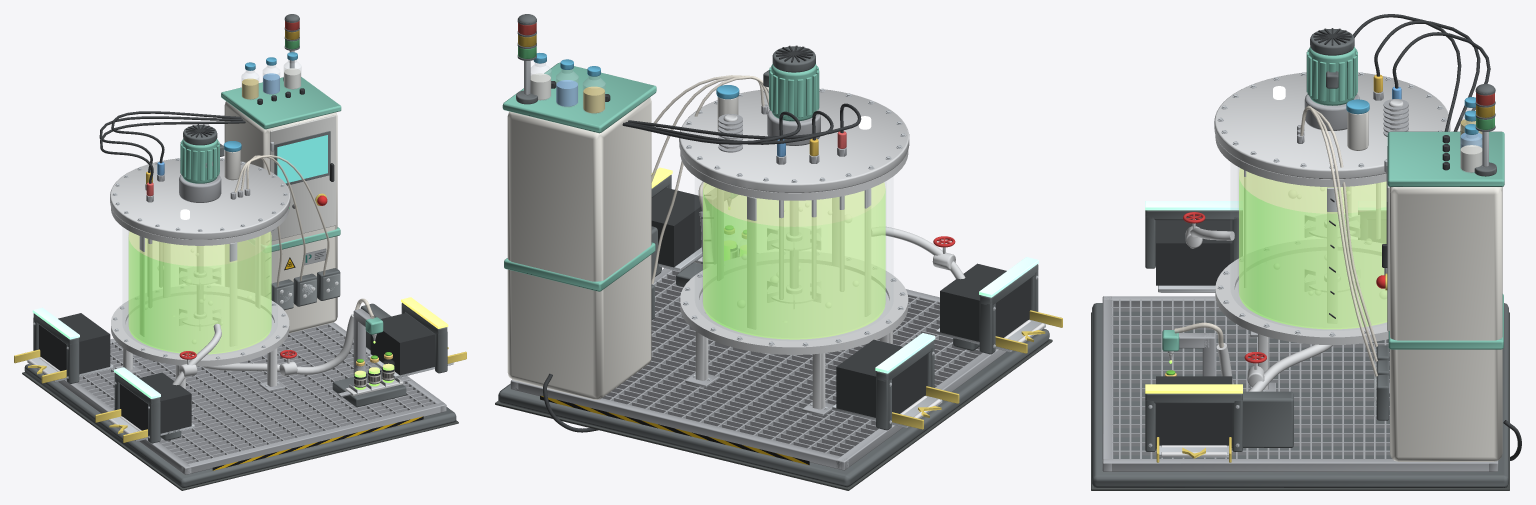
The model's file is biorreactor.glb.
3 views of the same model, side by side, from view 1: azimuth 30°, elevation 25°; view 2: azimuth 150°, elevation 25°; view 3: azimuth 270°, elevation 25° (orthographic). The views are drawn at different scales.
Parts seen in each view (by area): view 1: caldo, tapa_placa, armario, zocalo, fondo, brida_inf, puerta_armario, armario_techo, boca_salida_hueco, bancada_x-1, boca_entrada0_hueco, boca_entrada1_hueco (+51 smaller); view 2: armario, caldo, tapa_placa, fondo, zocalo, brida_inf, armario_techo, boca_entrada1_hueco, boca_entrada0_hueco, bancada_x1, boca_salida_hueco, zocalo_goma (+42 smaller); view 3: armario, zocalo, caldo, tapa_placa, fondo, armario_techo, brida_inf, bancada_y1, boca_entrada1_hueco, boca_salida_hueco, salida_conducto, bancada_x-1 (+48 smaller).
Boxes of the visible parts, bbox=[...] form: caldo: bbox=[128, 231, 271, 354]; tapa_placa: bbox=[110, 158, 290, 239]; armario: bbox=[224, 101, 337, 333]; zocalo: bbox=[24, 364, 456, 487]; fondo: bbox=[125, 294, 274, 353]; brida_inf: bbox=[111, 285, 289, 366]; puerta_armario: bbox=[270, 115, 336, 240]; armario_techo: bbox=[221, 77, 341, 129]; boca_salida_hueco: bbox=[370, 313, 434, 375]; bancada_x-1: bbox=[181, 402, 446, 474]; boca_entrada0_hueco: bbox=[39, 313, 110, 374]; boca_entrada1_hueco: bbox=[120, 372, 191, 433]; armario: bbox=[507, 97, 651, 399]; caldo: bbox=[703, 182, 885, 339]; tapa_placa: bbox=[679, 89, 909, 192]; fondo: bbox=[699, 263, 889, 339]; zocalo: bbox=[498, 328, 1049, 487]; brida_inf: bbox=[680, 251, 908, 354]; armario_techo: bbox=[502, 62, 656, 133]; boca_entrada1_hueco: bbox=[940, 263, 1031, 341]; boca_entrada0_hueco: bbox=[836, 339, 927, 417]; bancada_x1: bbox=[510, 380, 848, 470]; boca_salida_hueco: bbox=[651, 187, 701, 267]; zocalo_goma: bbox=[495, 339, 1052, 490]; armario: bbox=[1390, 187, 1502, 461]; zocalo: bbox=[1092, 303, 1508, 487]; caldo: bbox=[1239, 168, 1387, 329]; tapa_placa: bbox=[1214, 72, 1450, 179]; fondo: bbox=[1235, 251, 1386, 328]; armario_techo: bbox=[1387, 131, 1504, 186]; brida_inf: bbox=[1215, 239, 1388, 345]; bancada_y1: bbox=[1102, 459, 1497, 471]; boca_entrada1_hueco: bbox=[1156, 220, 1232, 285]; boca_salida_hueco: bbox=[1156, 376, 1232, 445]; salida_conducto: bbox=[1231, 391, 1293, 447]; bancada_x-1: bbox=[1102, 296, 1113, 471].
Size of the model in its own units: 2.44 by 2.1 by 2.03.
49 materials, 4 textured.
